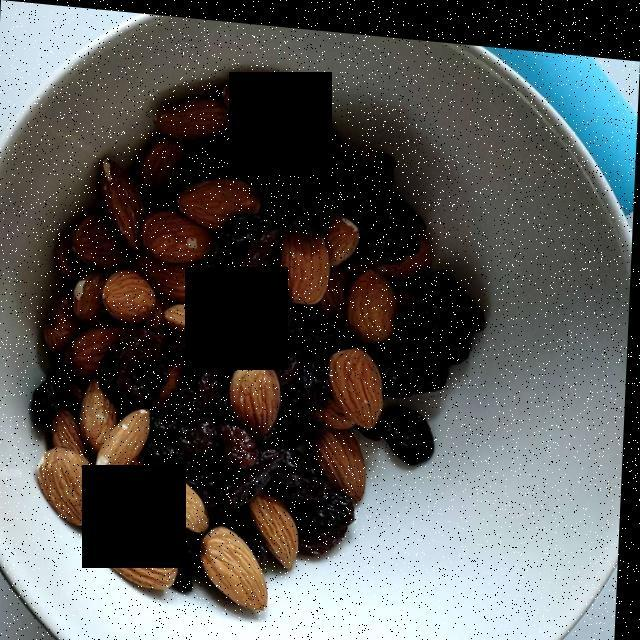almonds: (34, 68, 423, 594)
raisins: (117, 123, 481, 610)
